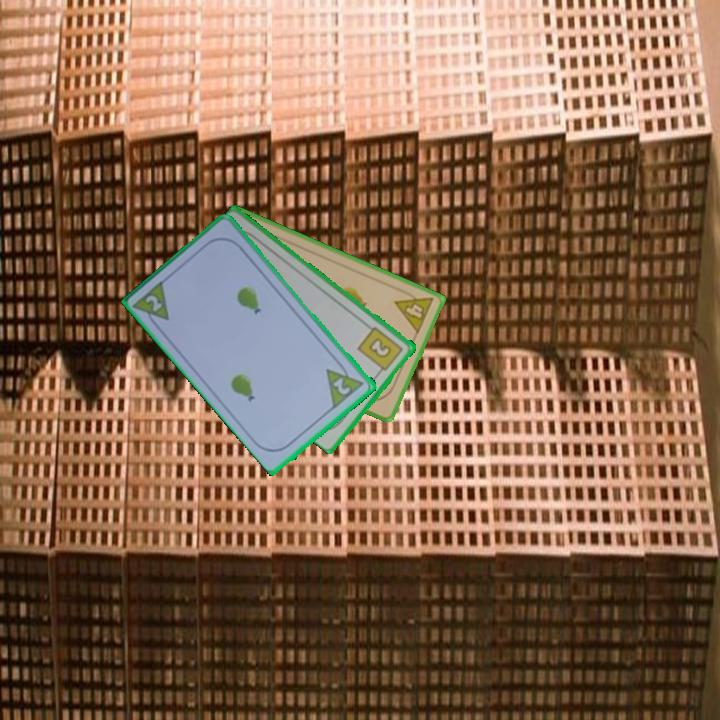2b: (354, 323, 406, 377)
2p: (322, 357, 368, 410), (131, 276, 173, 333)
4p: (391, 285, 437, 337)
